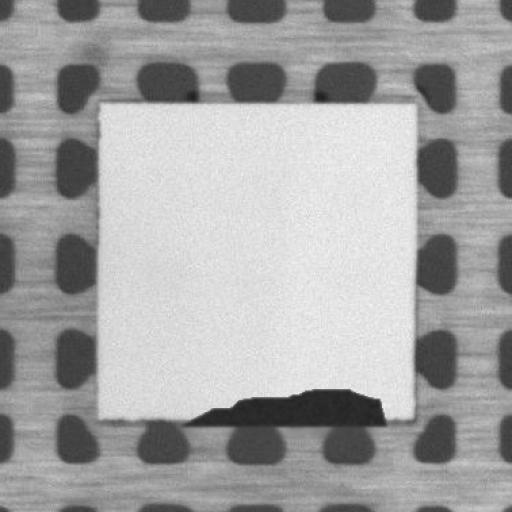DIE_BROKEN: (177, 384, 389, 430)
